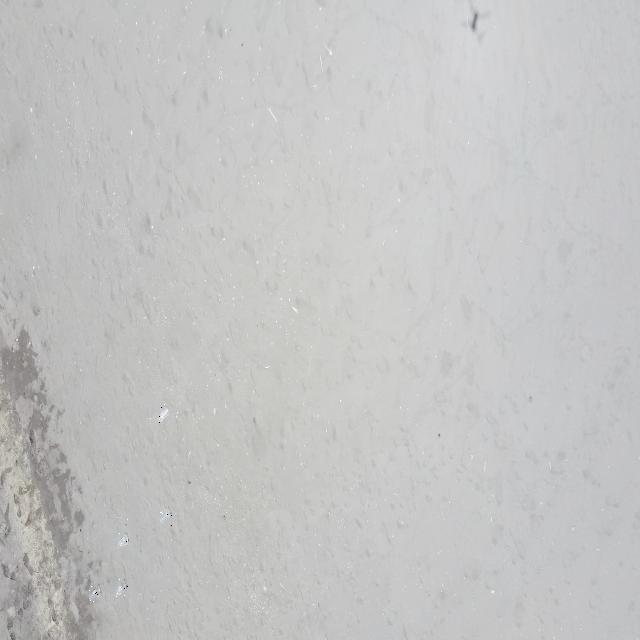takeaway-cup: (159, 506, 172, 526), (88, 584, 102, 602), (156, 404, 168, 424), (116, 578, 128, 598), (117, 532, 128, 552)
